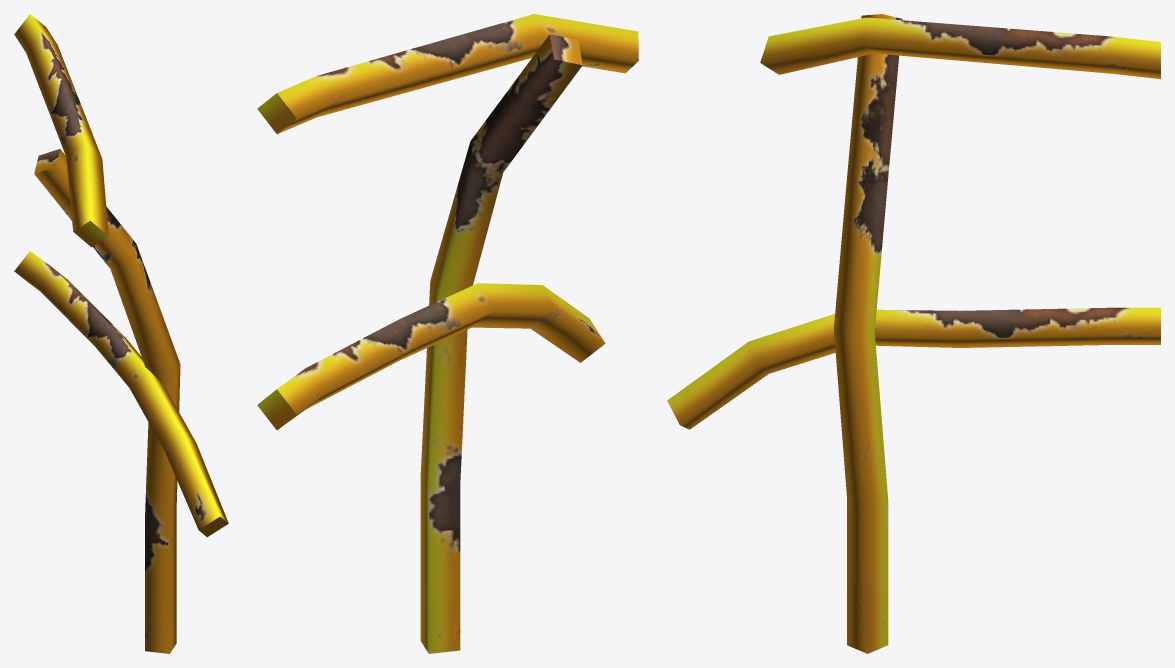
The model's file is safetyRail_1m_D.fbx.
The picture shows the model from 3 angles, left to right: view 1: azimuth 30°, elevation 25°; view 2: azimuth 150°, elevation 25°; view 3: azimuth 270°, elevation 25°; orthographic projection. The views are drawn at different scales.
Visible parts, largest first — view 1: safetyRail_1m_D; view 2: safetyRail_1m_D; view 3: safetyRail_1m_D.
Boxes of the visible parts, x1,y1,x2,y2 form: safetyRail_1m_D: (14,14,228,653); safetyRail_1m_D: (257,14,638,653); safetyRail_1m_D: (667,14,1160,653).
Bounding box in the file's own units: 30.71 × 113 × 84.19.
